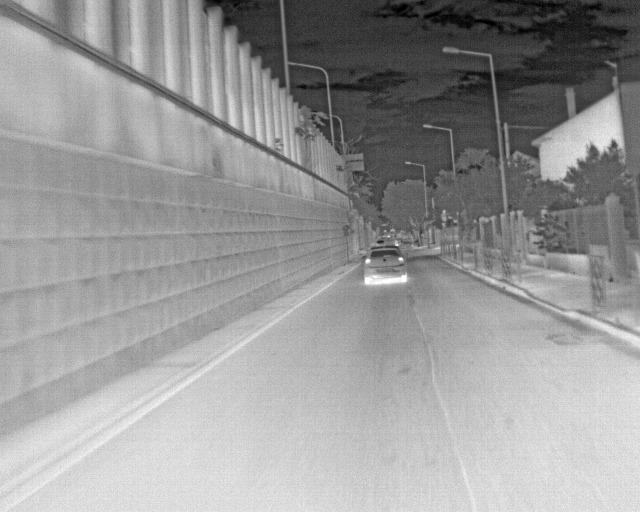car: (362, 245, 407, 285), (375, 238, 385, 246)
light: (441, 210, 446, 221)
sign: (343, 161, 364, 171), (340, 153, 363, 160), (390, 229, 396, 232), (383, 230, 387, 232)
